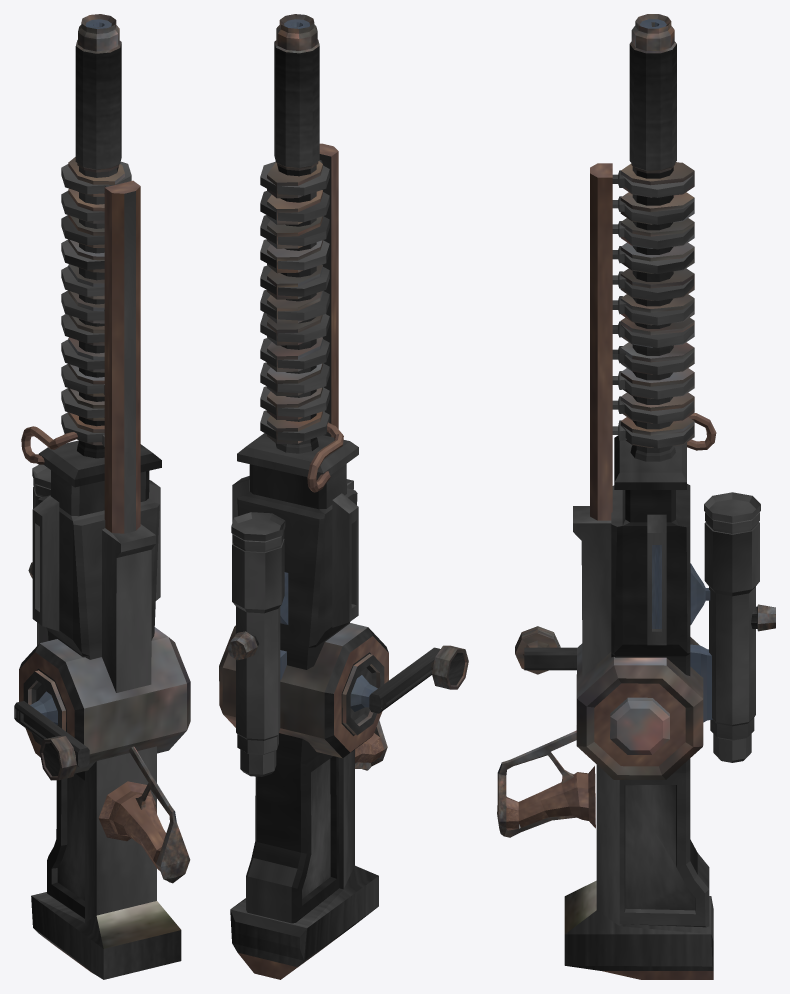
The model's file is Gauss.fbx.
The picture shows the model from 3 angles, left to right: view 1: azimuth 30°, elevation 25°; view 2: azimuth 150°, elevation 25°; view 3: azimuth 270°, elevation 25°; orthographic projection.
Parts seen in each view (by area): view 1: Cylinder.012; view 2: Cylinder.012; view 3: Cylinder.012.
Boxes of the visible parts, bbox=[...] form: Cylinder.012: bbox=[14, 14, 190, 979]; Cylinder.012: bbox=[219, 14, 468, 979]; Cylinder.012: bbox=[497, 14, 775, 979].
Bounding box in the file's own units: 0.0976 × 0.5192 × 0.1378.
